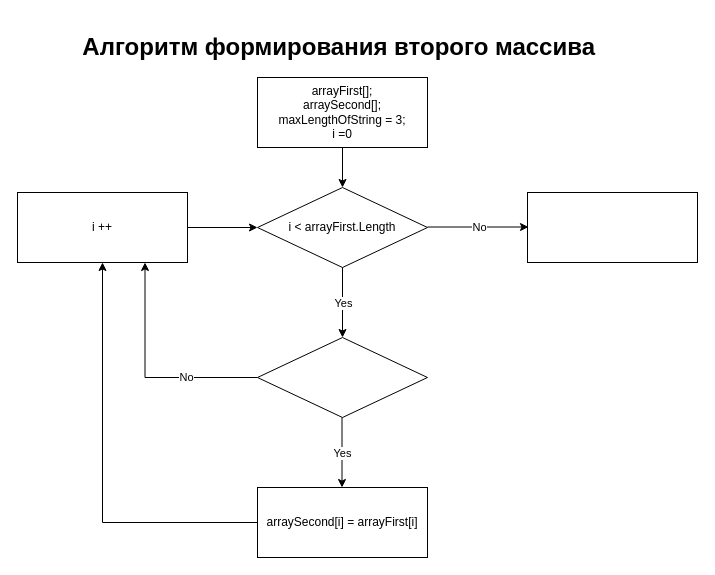
Some shapes in this 715 by 575 pixel diagram are drawn without their labels. Here are the shapes that lost their labels. From the top down, the centre of each, then its label:
(612,227): print arraySecond[]
(342,377): arrayFirst[i] <= maxLengthOfString
